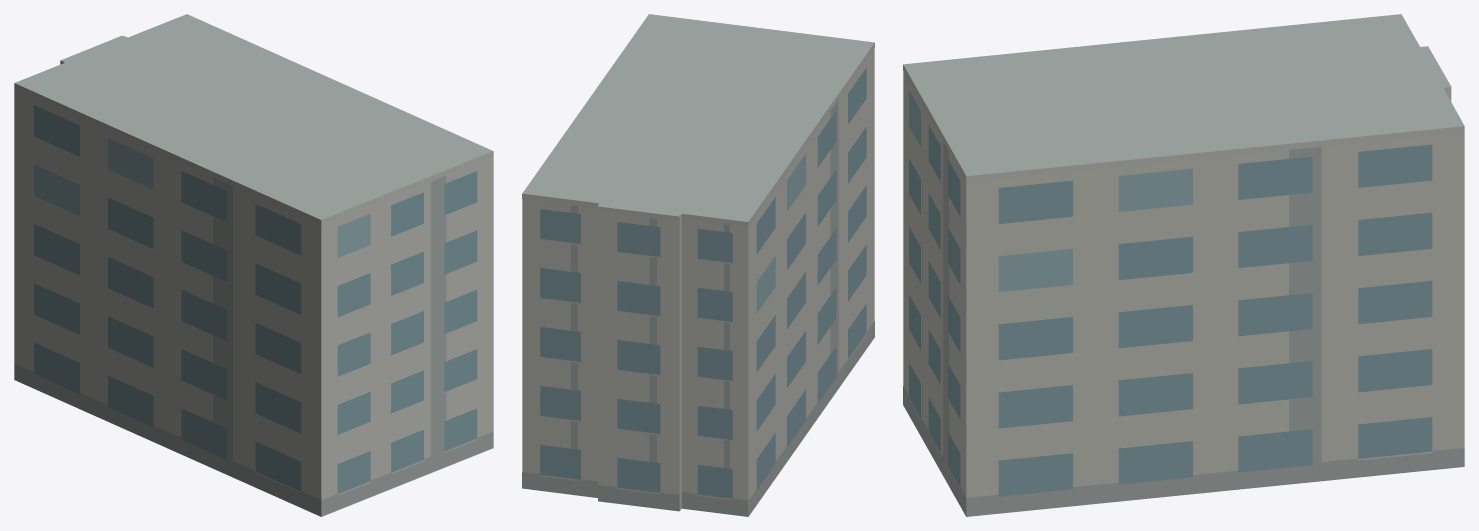
File: survey-upis-32823474.glb
3 renders of one model, left to right at view 1: azimuth 30°, elevation 25°; view 2: azimuth 150°, elevation 25°; view 3: azimuth 270°, elevation 25°, orthographic. The views are drawn at different scales.
Visible parts, largest first — view 1: survey-upis-32823474.tmp; view 2: survey-upis-32823474.tmp; view 3: survey-upis-32823474.tmp.
Boxes of the visible parts, x1,y1,x2,y2 form: survey-upis-32823474.tmp: [14, 14, 493, 516]; survey-upis-32823474.tmp: [522, 14, 874, 516]; survey-upis-32823474.tmp: [903, 14, 1464, 516].
Bounding box in the file's own units: 13.69 × 13.4 × 20.03.
